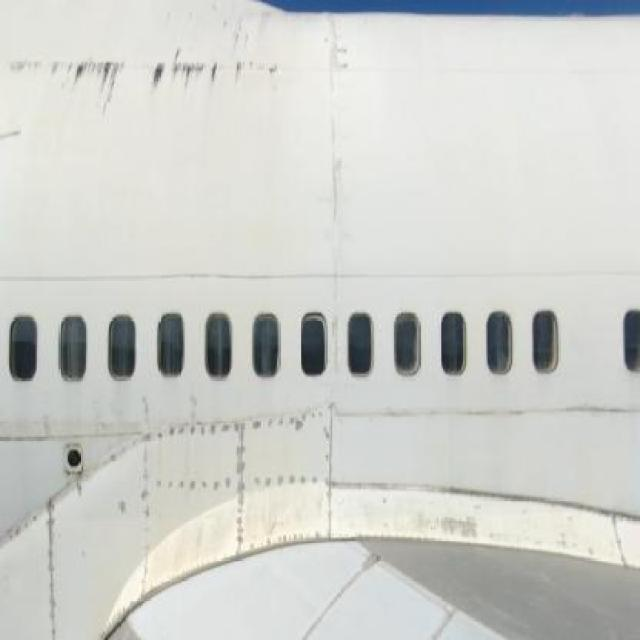Missing-Rivet: (125, 420, 352, 546), (39, 487, 72, 640)
Scartch: (5, 34, 292, 111), (414, 497, 483, 540)
